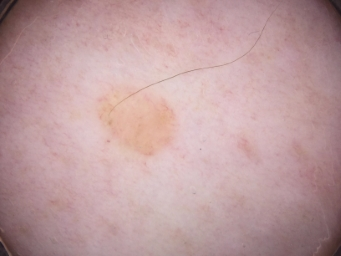seborrheic keratosis: (95, 86, 184, 158)
